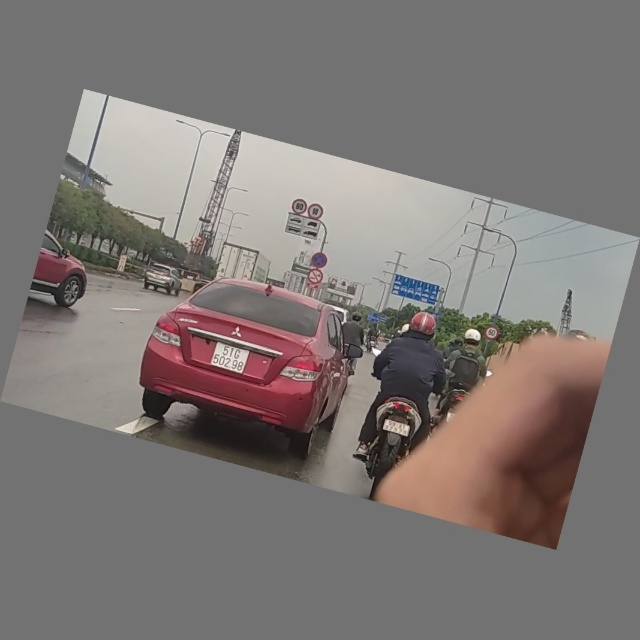B.8a: (305, 267, 325, 287)
P.130: (309, 251, 329, 270)
